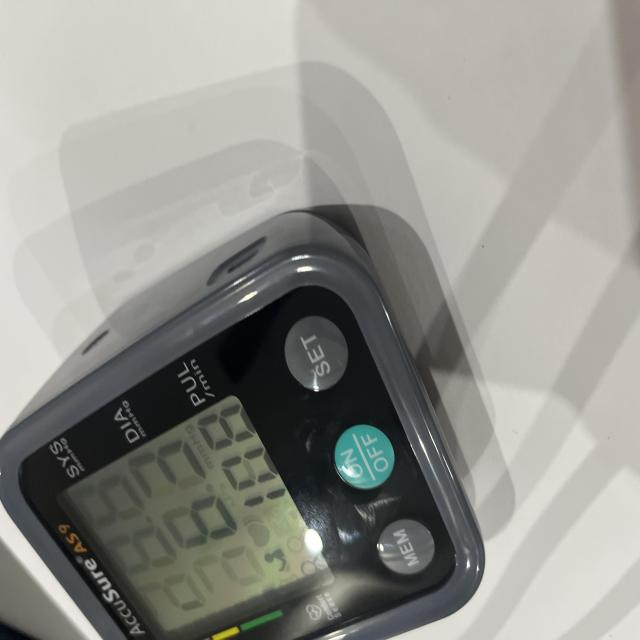bp: (0, 208, 487, 640)
